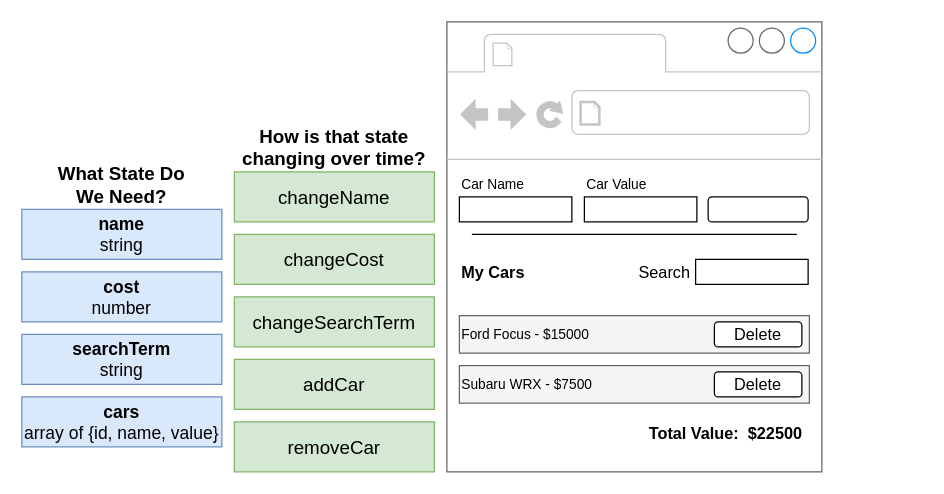
The diagram is 944 pixels wide and 494 high, and some of its shapes have lost their labels. The shapes that lost their labels are listed below. From the top down, each one's centre as x and y in pixels, then its label:
At pixel 590 52: "Page 1".
At pixel 757 209: "Submit".
